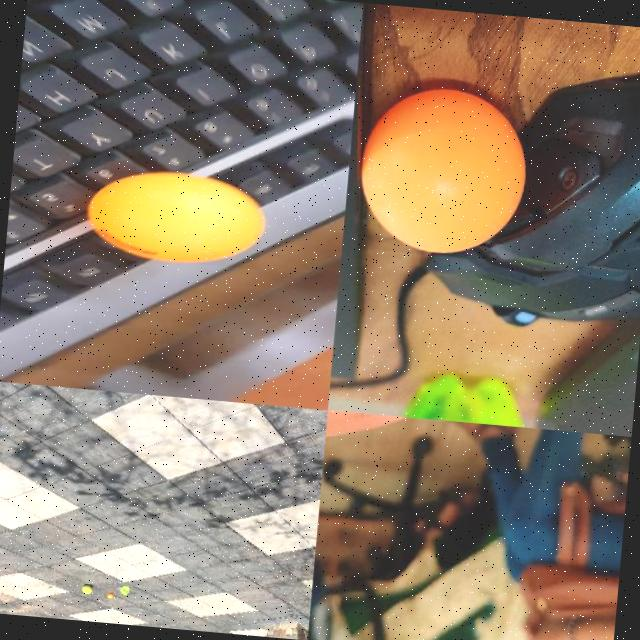ping-pong-ball: (353, 81, 534, 262), (94, 166, 267, 270), (104, 592, 112, 599)
